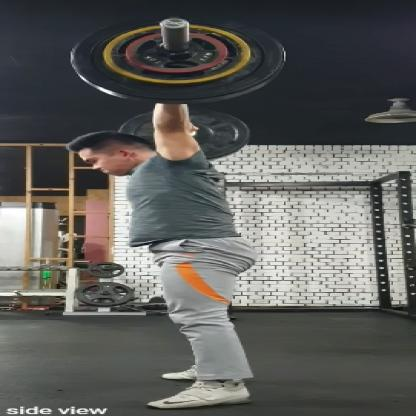Barbell: (55, 6, 302, 109)
